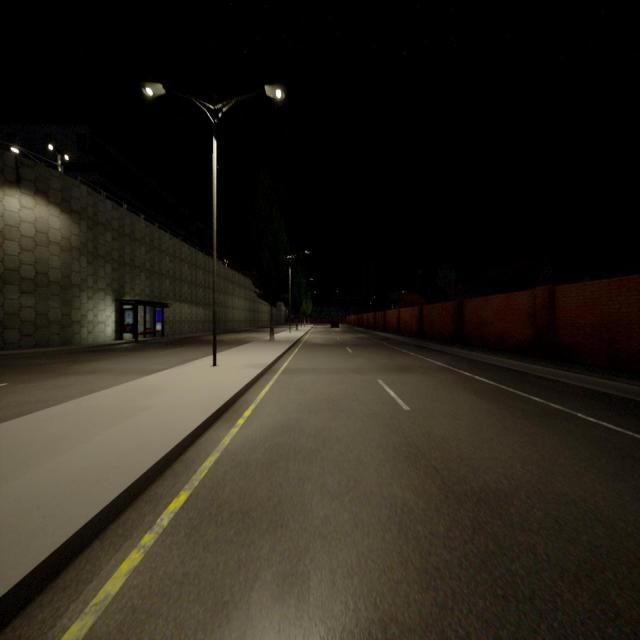Vehicle: (331, 320, 339, 328)
